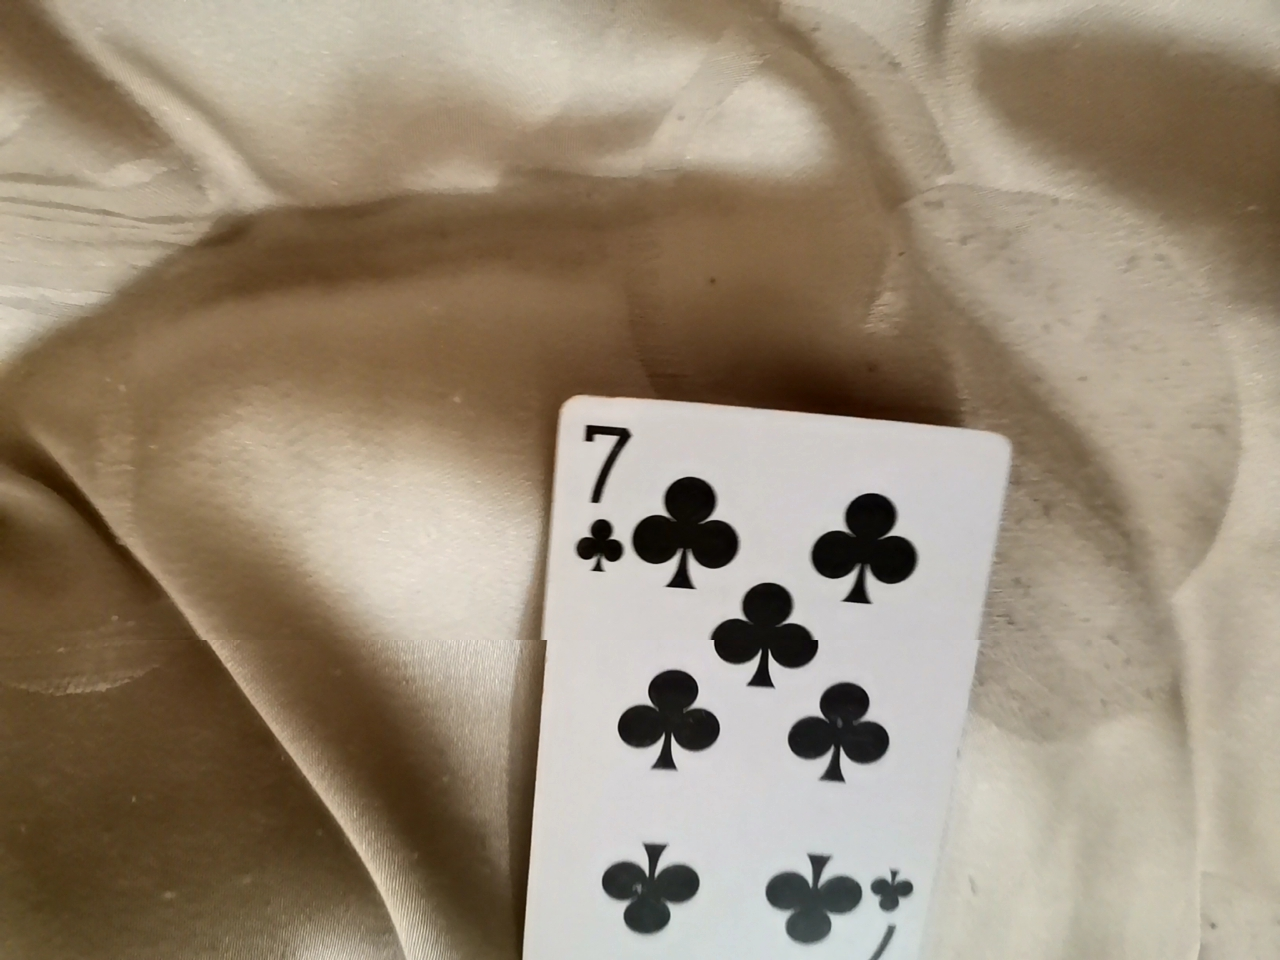mh 7: (511, 393, 1008, 957)
